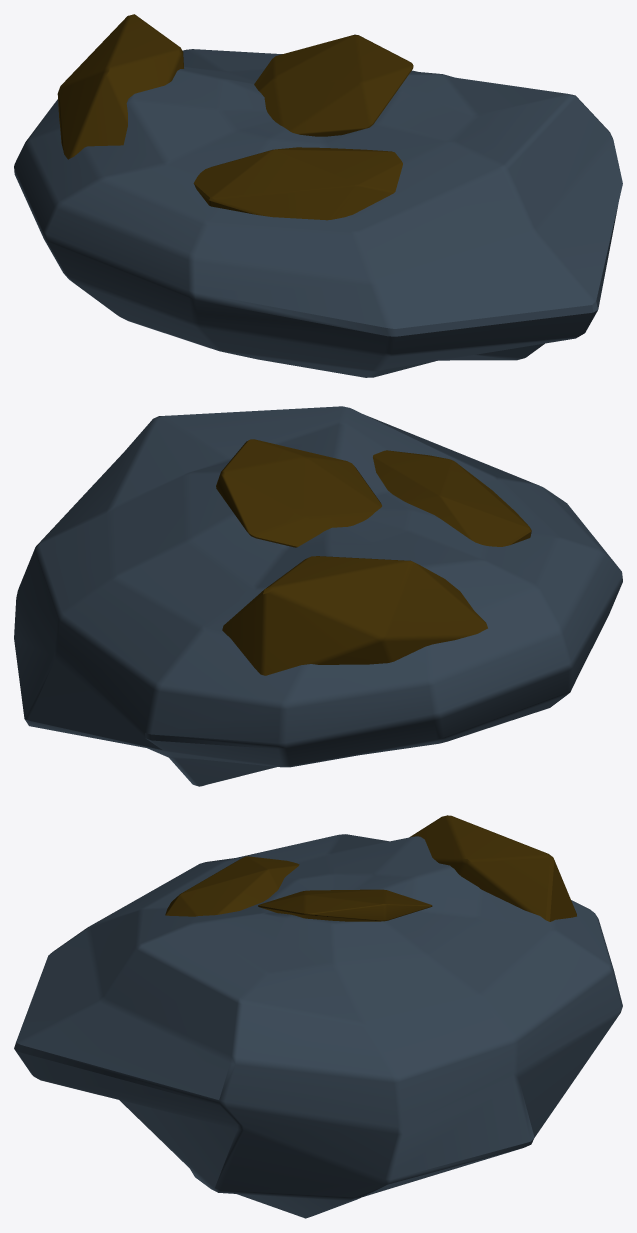
Rendered from HQ ore 3.fbx.
3 renders of one model, top to bottom at view 1: azimuth 30°, elevation 25°; view 2: azimuth 150°, elevation 25°; view 3: azimuth 270°, elevation 25°, orthographic. The views are drawn at different scales.
Visible parts, largest first — view 1: pSphere4, pPlatonic8, pPlatonic10, pPlatonic9; view 2: pSphere4, pPlatonic9, pPlatonic10, pPlatonic8; view 3: pSphere4, pPlatonic9, pPlatonic8, pPlatonic10.
Boxes of the visible parts, x1,y1,x2,y2 form: pSphere4: [14, 49, 622, 377]; pPlatonic8: [193, 147, 402, 220]; pPlatonic10: [254, 34, 413, 136]; pPlatonic9: [57, 14, 183, 159]; pSphere4: [14, 406, 622, 786]; pPlatonic9: [222, 556, 487, 675]; pPlatonic10: [216, 439, 381, 547]; pPlatonic8: [373, 450, 531, 546]; pSphere4: [14, 834, 622, 1218]; pPlatonic9: [409, 815, 576, 921]; pPlatonic8: [165, 856, 299, 916]; pPlatonic10: [258, 889, 432, 921].
Bounding box in the file's own units: 4.03 × 2.12 × 4.46.
